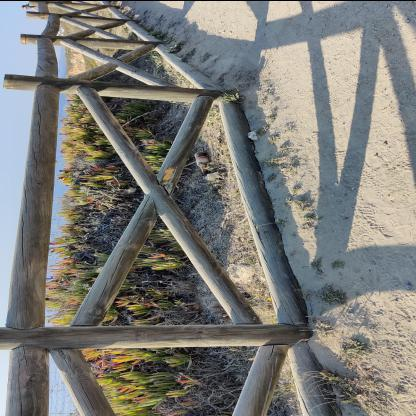cam: (195, 153, 211, 175)
plastik: (206, 173, 226, 181)
